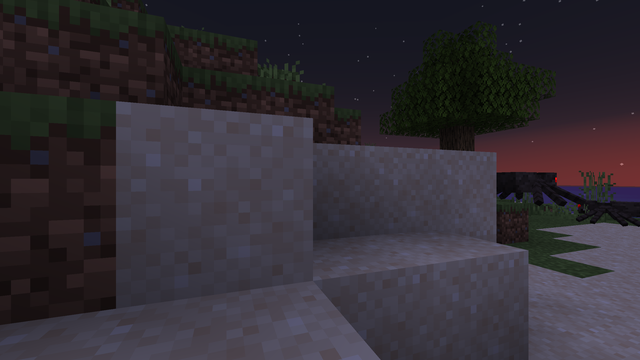araignees: (496, 167, 577, 206), (569, 197, 635, 226)
